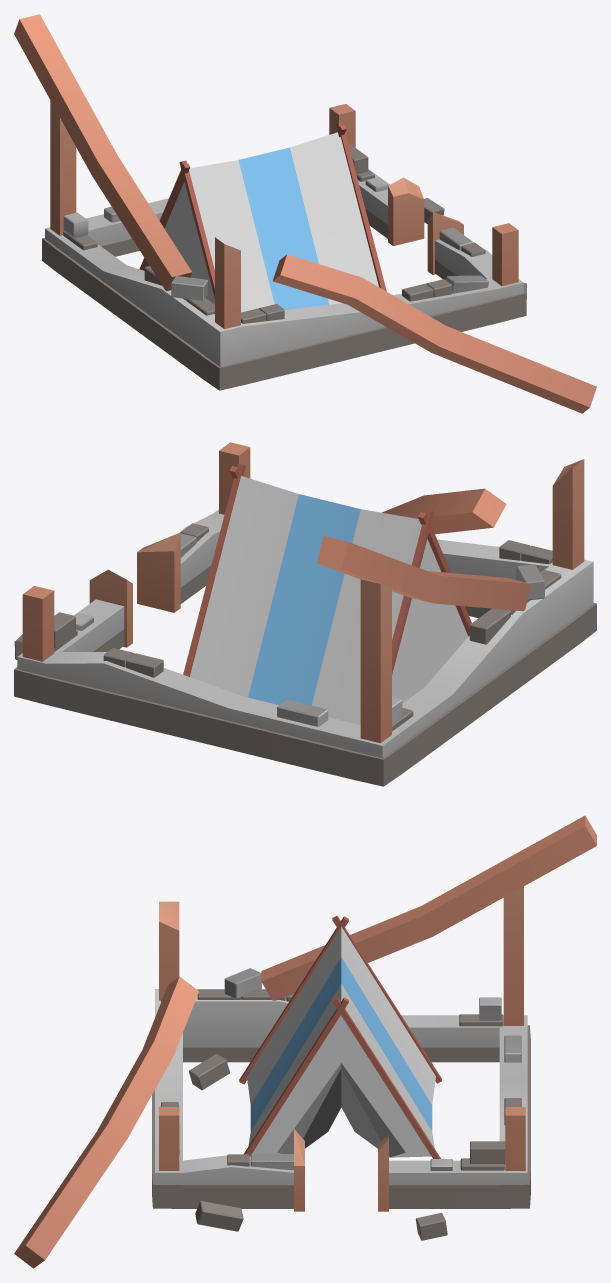
Rendered from [OBJ]Casa_Inicial.fbx.
3 views of the same model, one above another, from view 1: azimuth 30°, elevation 25°; view 2: azimuth 150°, elevation 25°; view 3: azimuth 270°, elevation 25° (orthographic). The views are drawn at different scales.
Visible parts, largest first — view 1: [OBJ]Casa_Inicial; view 2: [OBJ]Casa_Inicial; view 3: [OBJ]Casa_Inicial.
Boxes of the visible parts, x1,y1,x2,y2 form: [OBJ]Casa_Inicial: [14, 14, 596, 413]; [OBJ]Casa_Inicial: [14, 442, 596, 786]; [OBJ]Casa_Inicial: [14, 815, 596, 1268].
Bounding box in the file's own units: 233 × 175 × 313.
